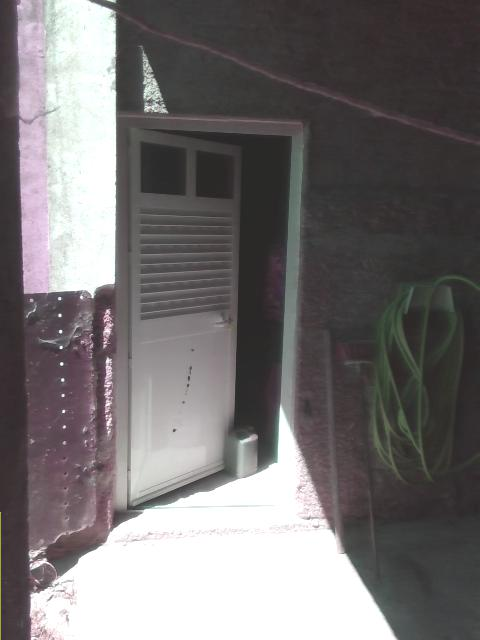semi_door: (115, 112, 303, 512)
